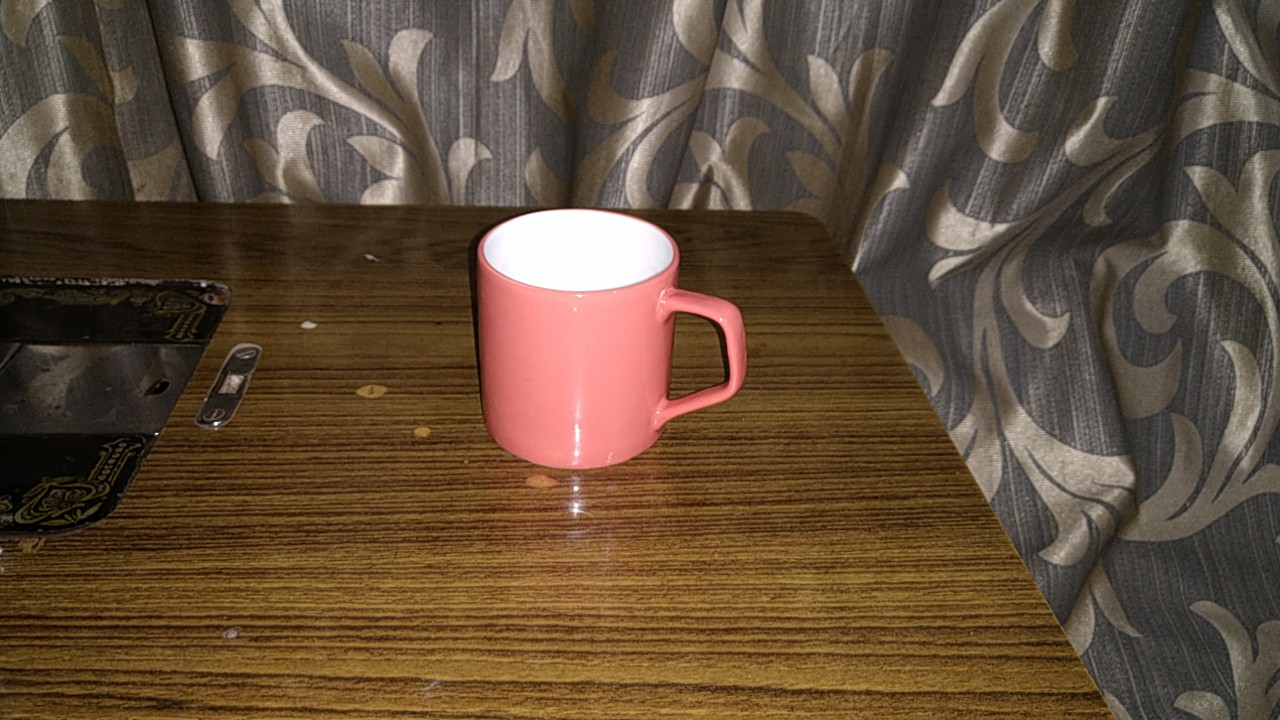cup: (467, 198, 758, 483)
